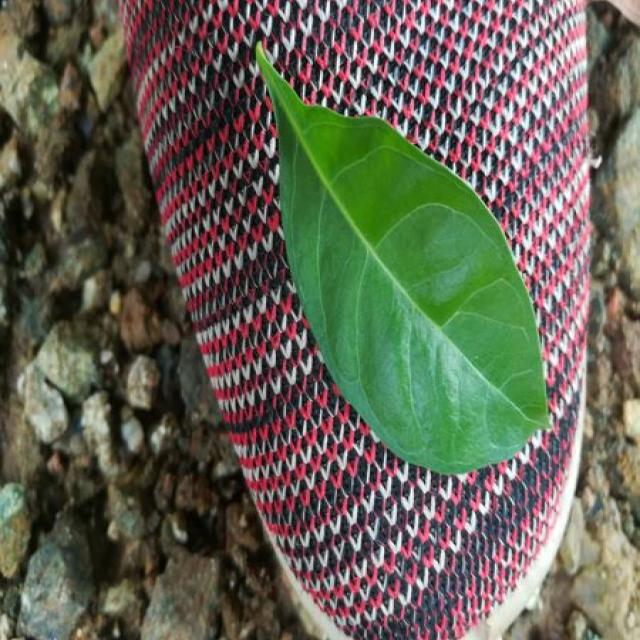henna: (257, 46, 550, 473)
